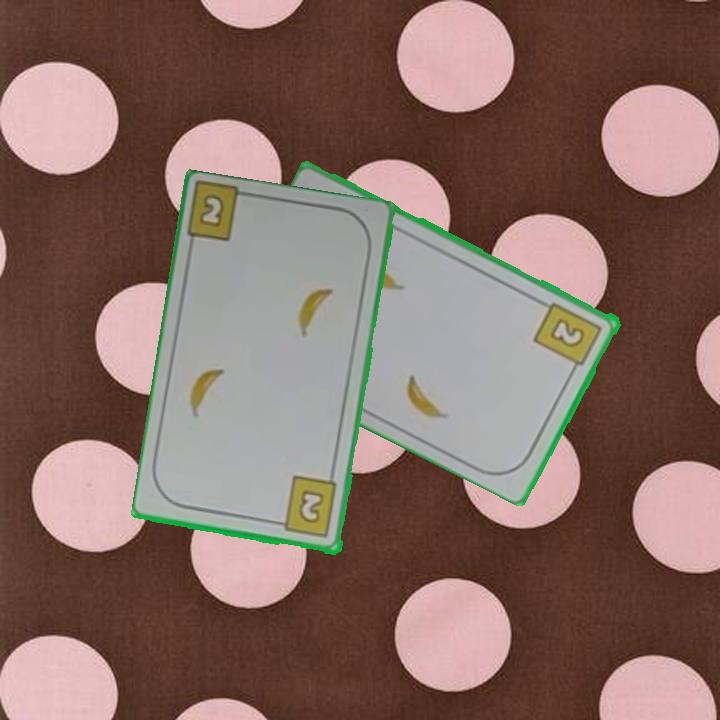2b: (531, 298, 606, 376), (272, 474, 340, 541), (196, 190, 228, 231)
